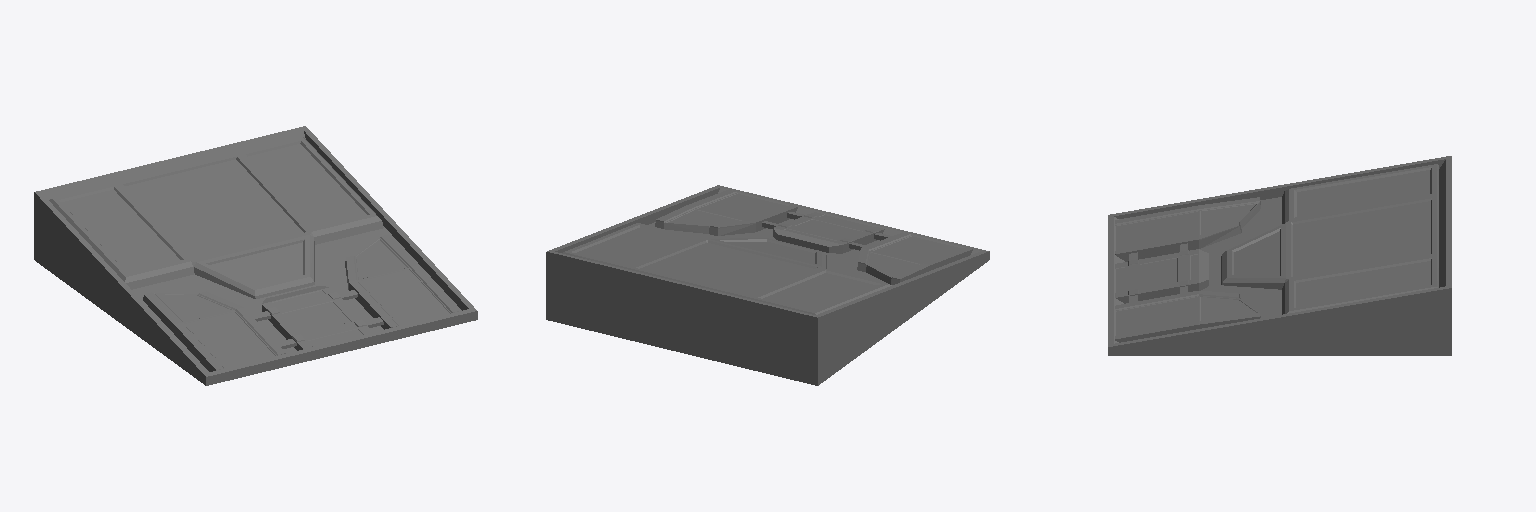
The model's file is SM_Floor_a_Panel1_Topogun.obj.
3 renders of one model, left to right at view 1: azimuth 30°, elevation 25°; view 2: azimuth 150°, elevation 25°; view 3: azimuth 270°, elevation 25°, orthographic.
Parts seen in each view (by area): view 1: SM_Floor_a_Panel1; view 2: SM_Floor_a_Panel1; view 3: SM_Floor_a_Panel1.
Boxes of the visible parts, box(x1,y1,x2,y2) form: SM_Floor_a_Panel1: box(34, 126, 477, 385); SM_Floor_a_Panel1: box(546, 185, 989, 385); SM_Floor_a_Panel1: box(1108, 156, 1451, 355).
Size of the model in its own units: 310 by 74.74 by 340.